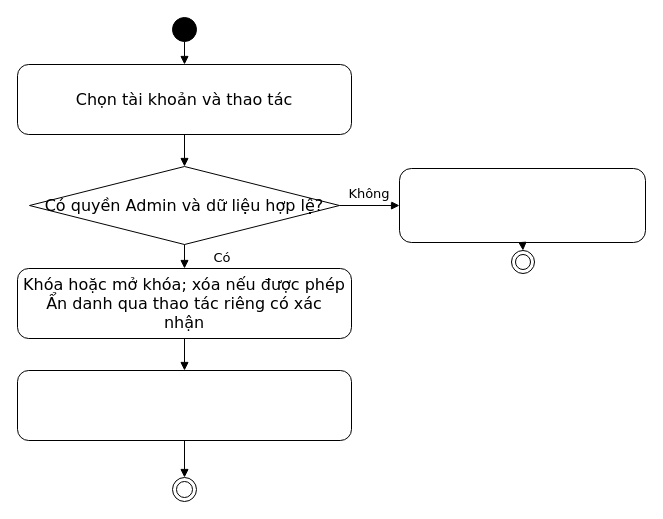
Some shapes in this 663 by 519 pixel diagram are drawn without their labels. The centre of each missing label's shape, as x and y in pixels:
"API từ chối yêu cầu" belongs at point (522, 205).
"Tải lại danh sách; xem nhật ký thao tác tương ứng" belongs at point (184, 405).
